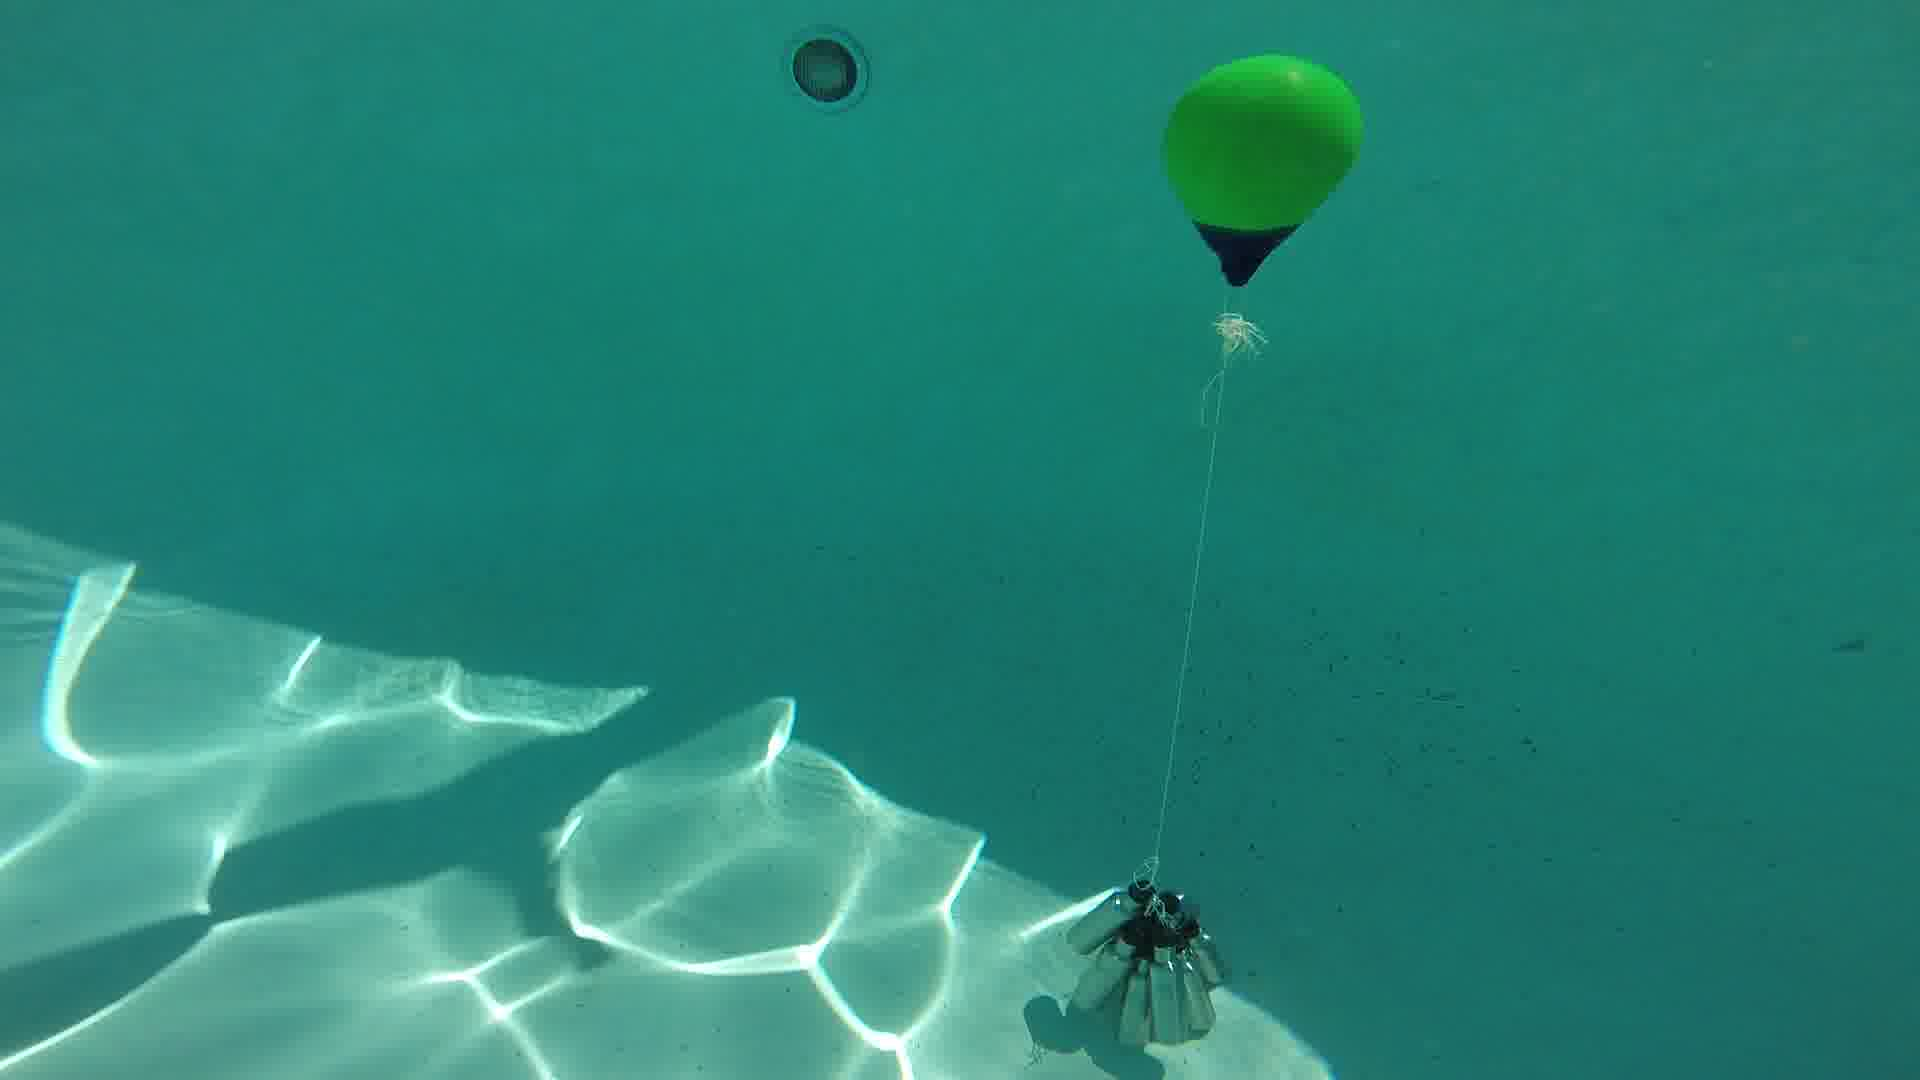yellow_buoy: (1159, 51, 1367, 294)
